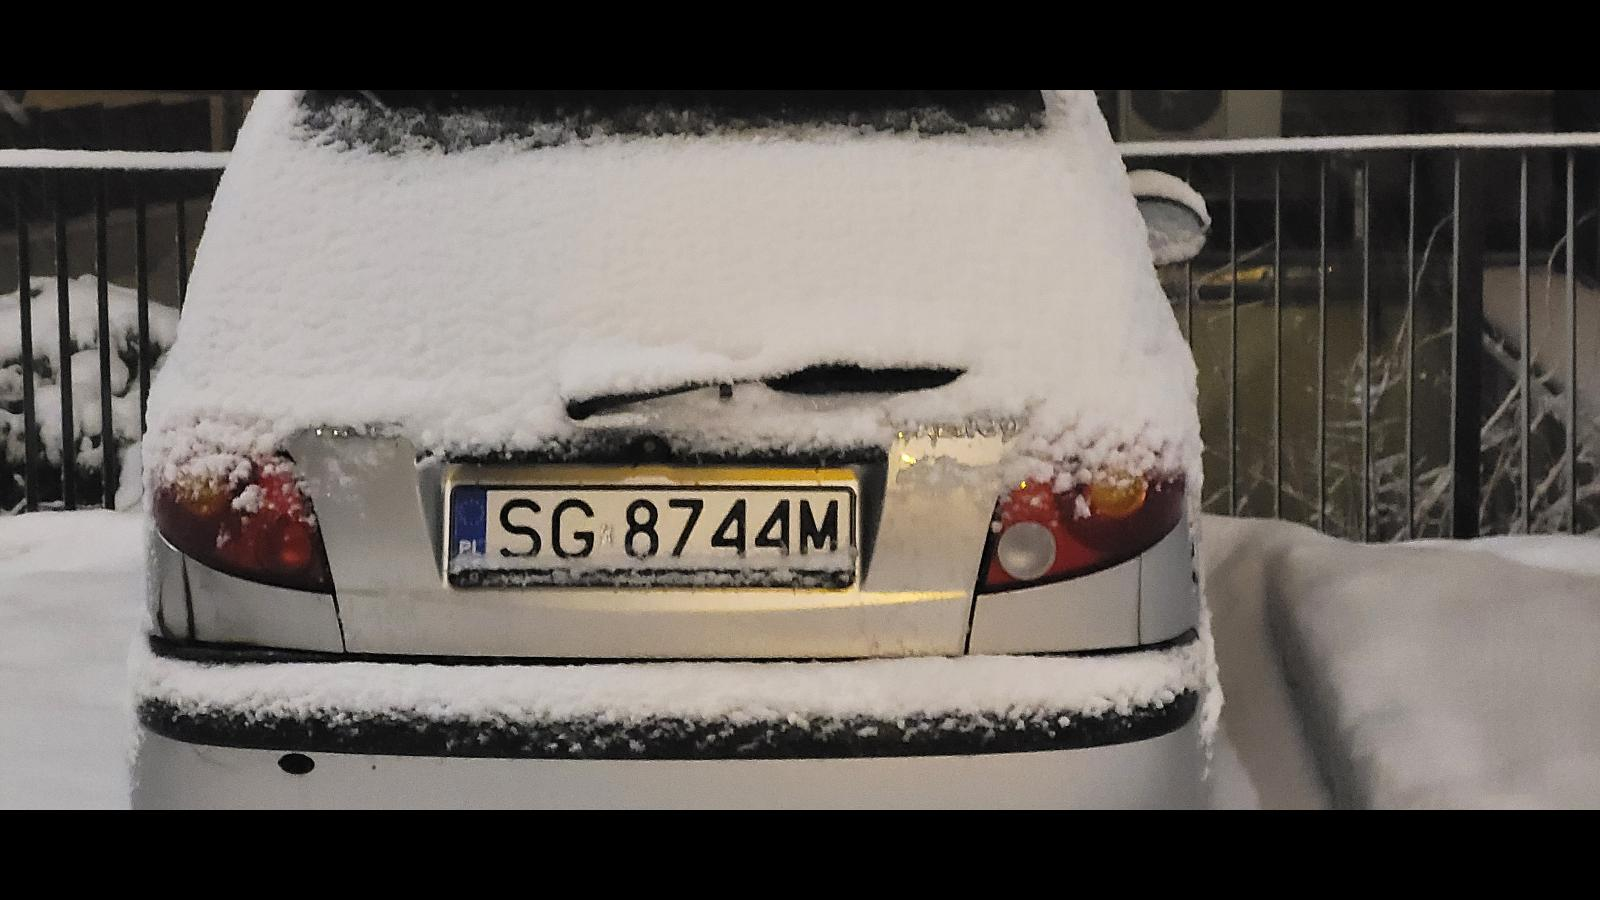plates: (451, 484, 856, 586)
